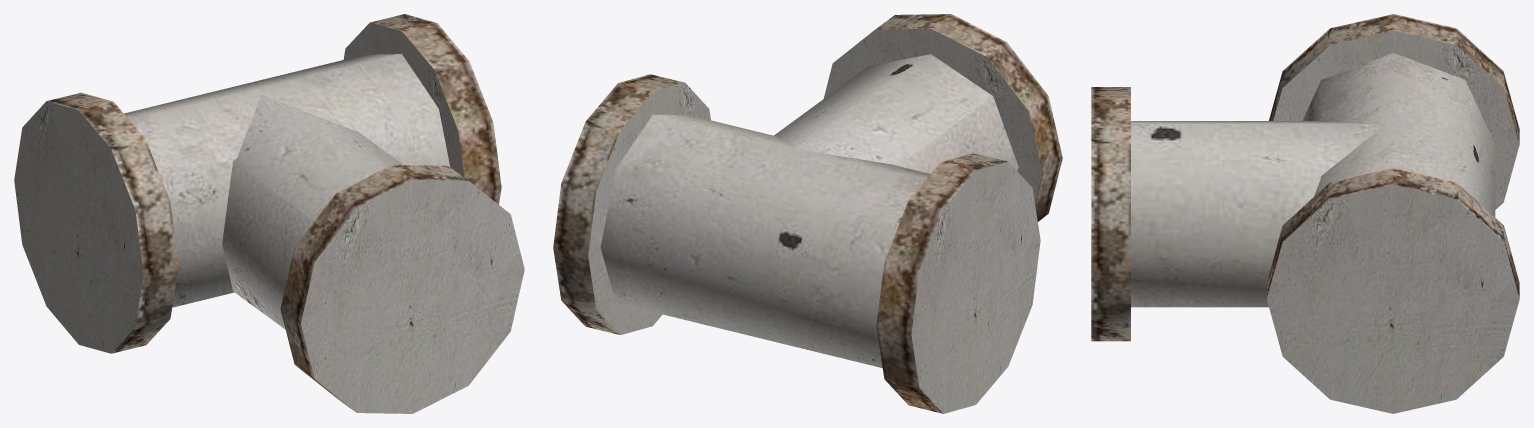
Rendered from pipe03_tjoint01.glb.
The picture shows the model from 3 angles, left to right: view 1: azimuth 30°, elevation 25°; view 2: azimuth 150°, elevation 25°; view 3: azimuth 270°, elevation 25°; orthographic projection. The views are drawn at different scales.
Visible parts, largest first — view 1: 0_pipesystem01a_skin1; view 2: 0_pipesystem01a_skin1; view 3: 0_pipesystem01a_skin1.
Part boxes in pixels (left/top/right/bottom): 0_pipesystem01a_skin1: left=14, top=14, right=524, bottom=413; 0_pipesystem01a_skin1: left=553, top=14, right=1062, bottom=413; 0_pipesystem01a_skin1: left=1091, top=14, right=1519, bottom=413.
Size of the model in its own units: 0.9527 by 0.5957 by 1.01.
1 material, 1 textured.
